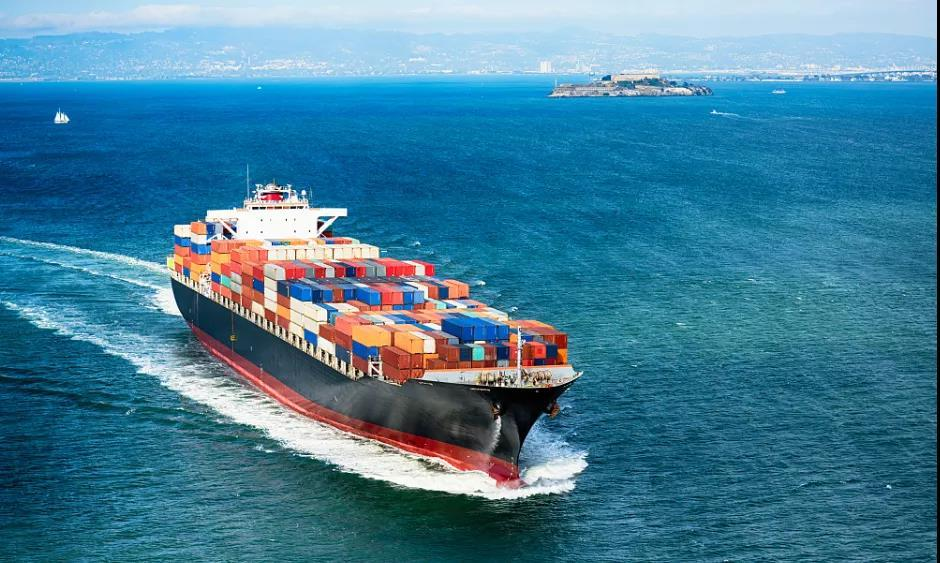Cargoship: (153, 162, 582, 483)
fanchuan: (50, 107, 75, 131)
